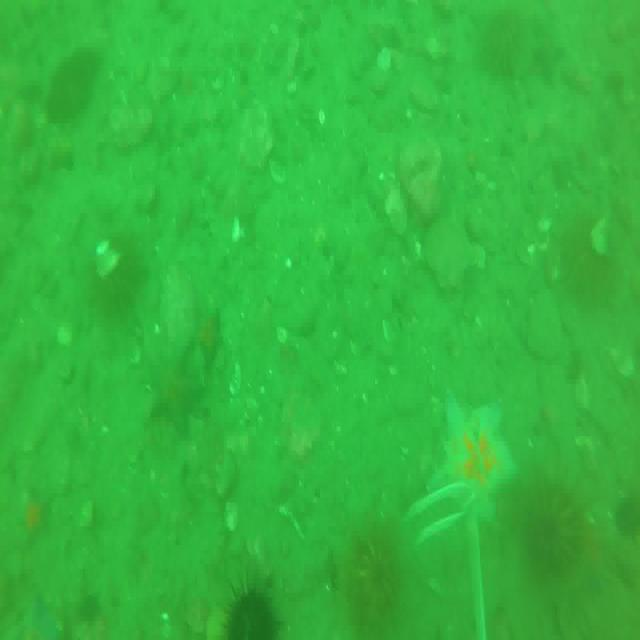echinus: (525, 463, 586, 582), (89, 230, 145, 314), (562, 218, 608, 314), (220, 575, 278, 640), (44, 50, 93, 114), (361, 528, 393, 610)
starfish: (430, 400, 512, 520), (138, 335, 198, 425), (385, 187, 412, 237), (223, 502, 238, 536), (269, 158, 289, 182), (373, 51, 393, 70)
